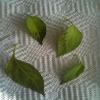Bell_pepper leaf: (5, 55, 47, 97), (57, 23, 83, 57), (25, 16, 47, 46), (61, 64, 86, 86)
